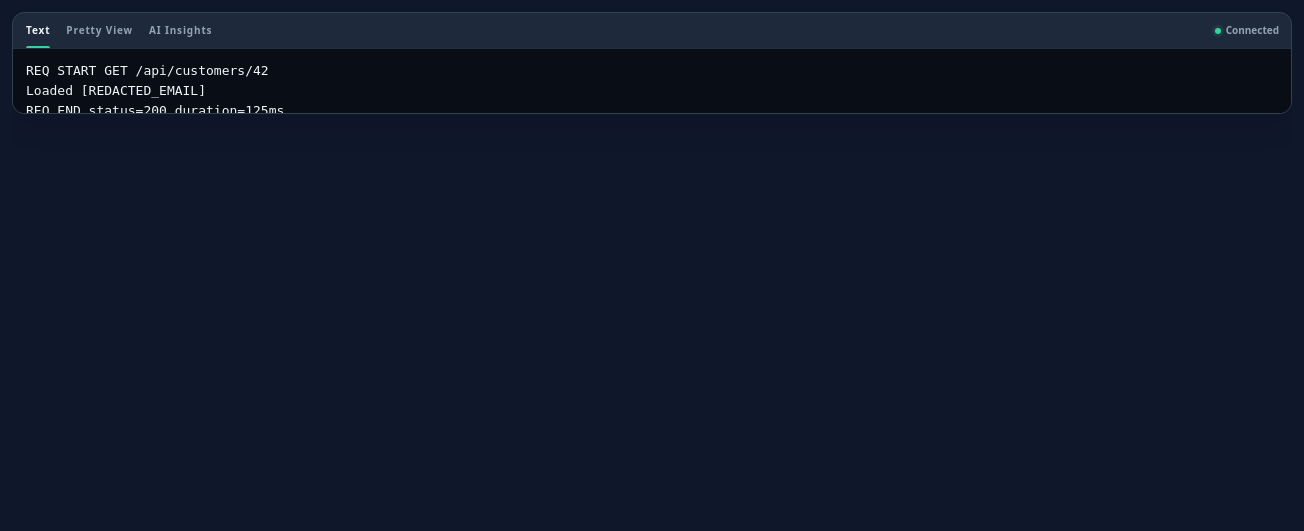
Test case: Pretty View API activity cards › uses retained evidence to show one correlated card with internal logs
Click the tab "Pretty View" at (100, 30), box [59,13,140,48]
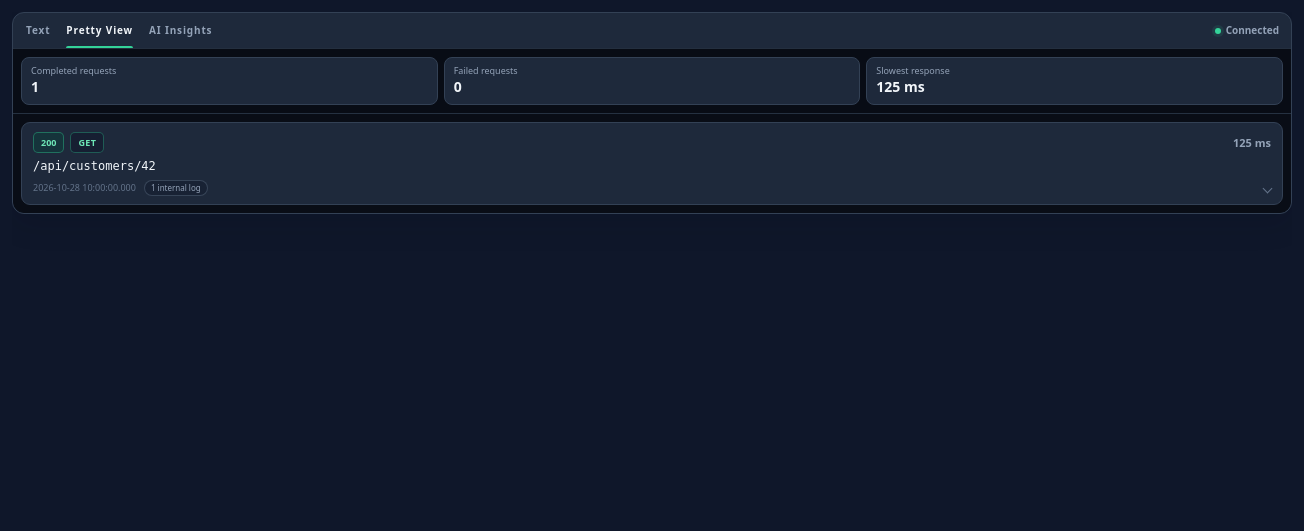
Check: the number of list items with class "api-record" is 1
Check: the text "1 internal log" is shown, box [144,180,208,196]
Click the heading at (49, 142), box [22,123,1282,204]
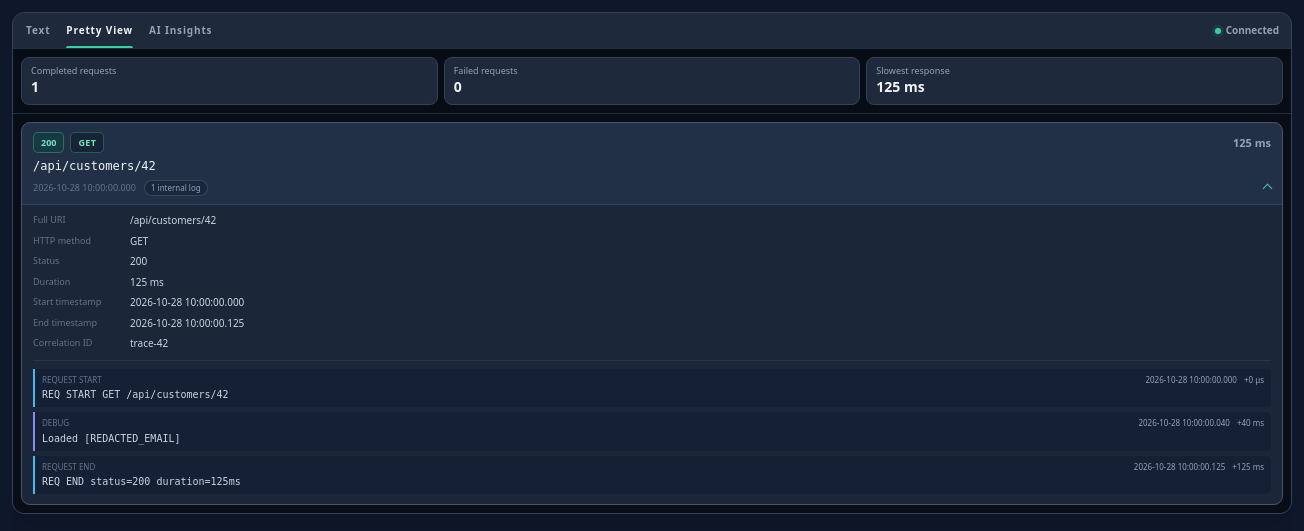
Check: the text "DEBUG" is shown, box [42,417,69,430]
Check: the text "Loaded [REDACTED_EMAIL]" is shown, box [42,433,180,444]
Check: the text "+40 ms" is shown, box [1237,417,1264,430]
